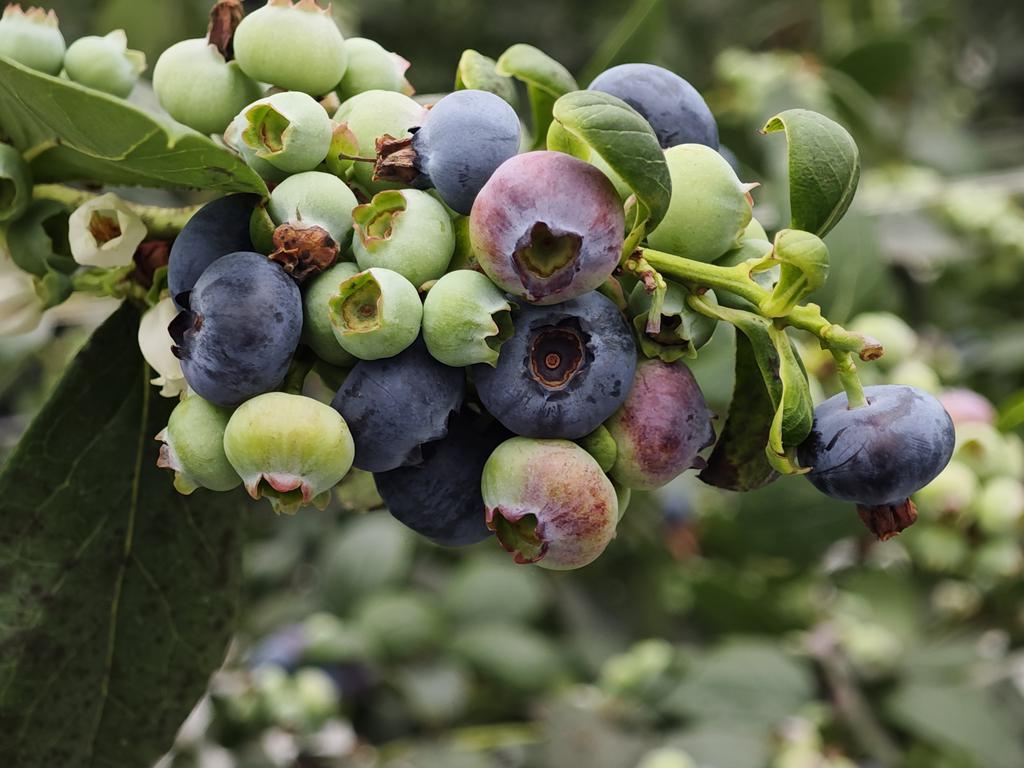RipeBlueBerry: (490, 302, 639, 437), (802, 386, 958, 510), (183, 259, 299, 400)
Semi-RipeBlueBerry: (469, 151, 627, 300), (480, 440, 618, 572)
UnripeBlueBerry: (220, 389, 358, 506), (234, 1, 346, 89), (357, 190, 457, 280), (331, 269, 420, 358), (247, 91, 334, 171)
